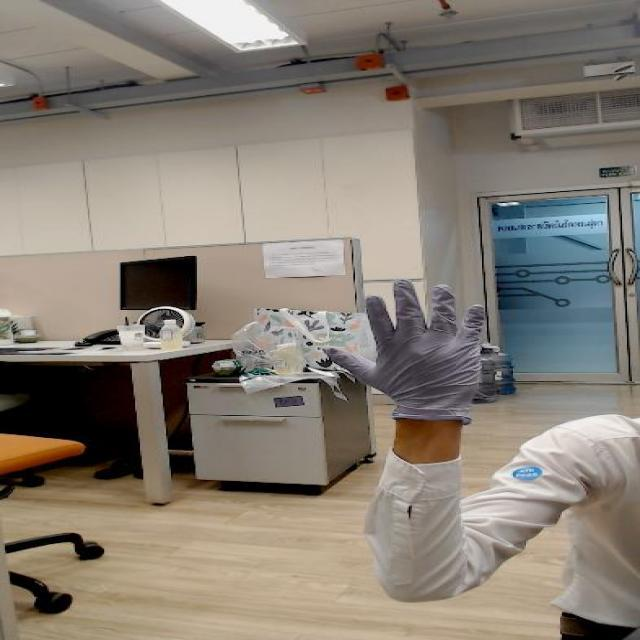with_gloves: (313, 270, 514, 396)
